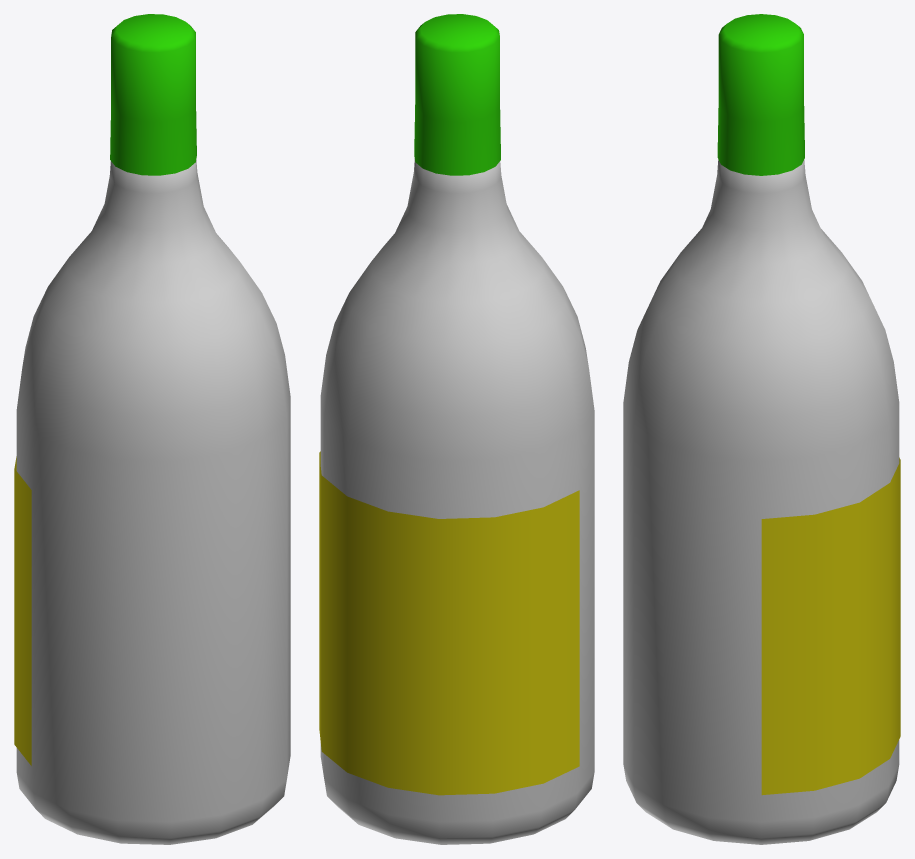
File: BHP_MOD_BOT_White_wine.fbx
The picture shows the model from 3 angles, left to right: view 1: azimuth 30°, elevation 25°; view 2: azimuth 150°, elevation 25°; view 3: azimuth 270°, elevation 25°; orthographic projection.
Visible parts, largest first — view 1: BHP_MOD_Bottle_White_wine; view 2: BHP_MOD_Bottle_White_wine; view 3: BHP_MOD_Bottle_White_wine.
Boxes of the visible parts, x1,y1,x2,y2 form: BHP_MOD_Bottle_White_wine: (14, 14, 290, 844); BHP_MOD_Bottle_White_wine: (319, 14, 594, 844); BHP_MOD_Bottle_White_wine: (623, 14, 900, 844).
Size of the model in its own units: 0.0991 by 0.2977 by 0.0982.
